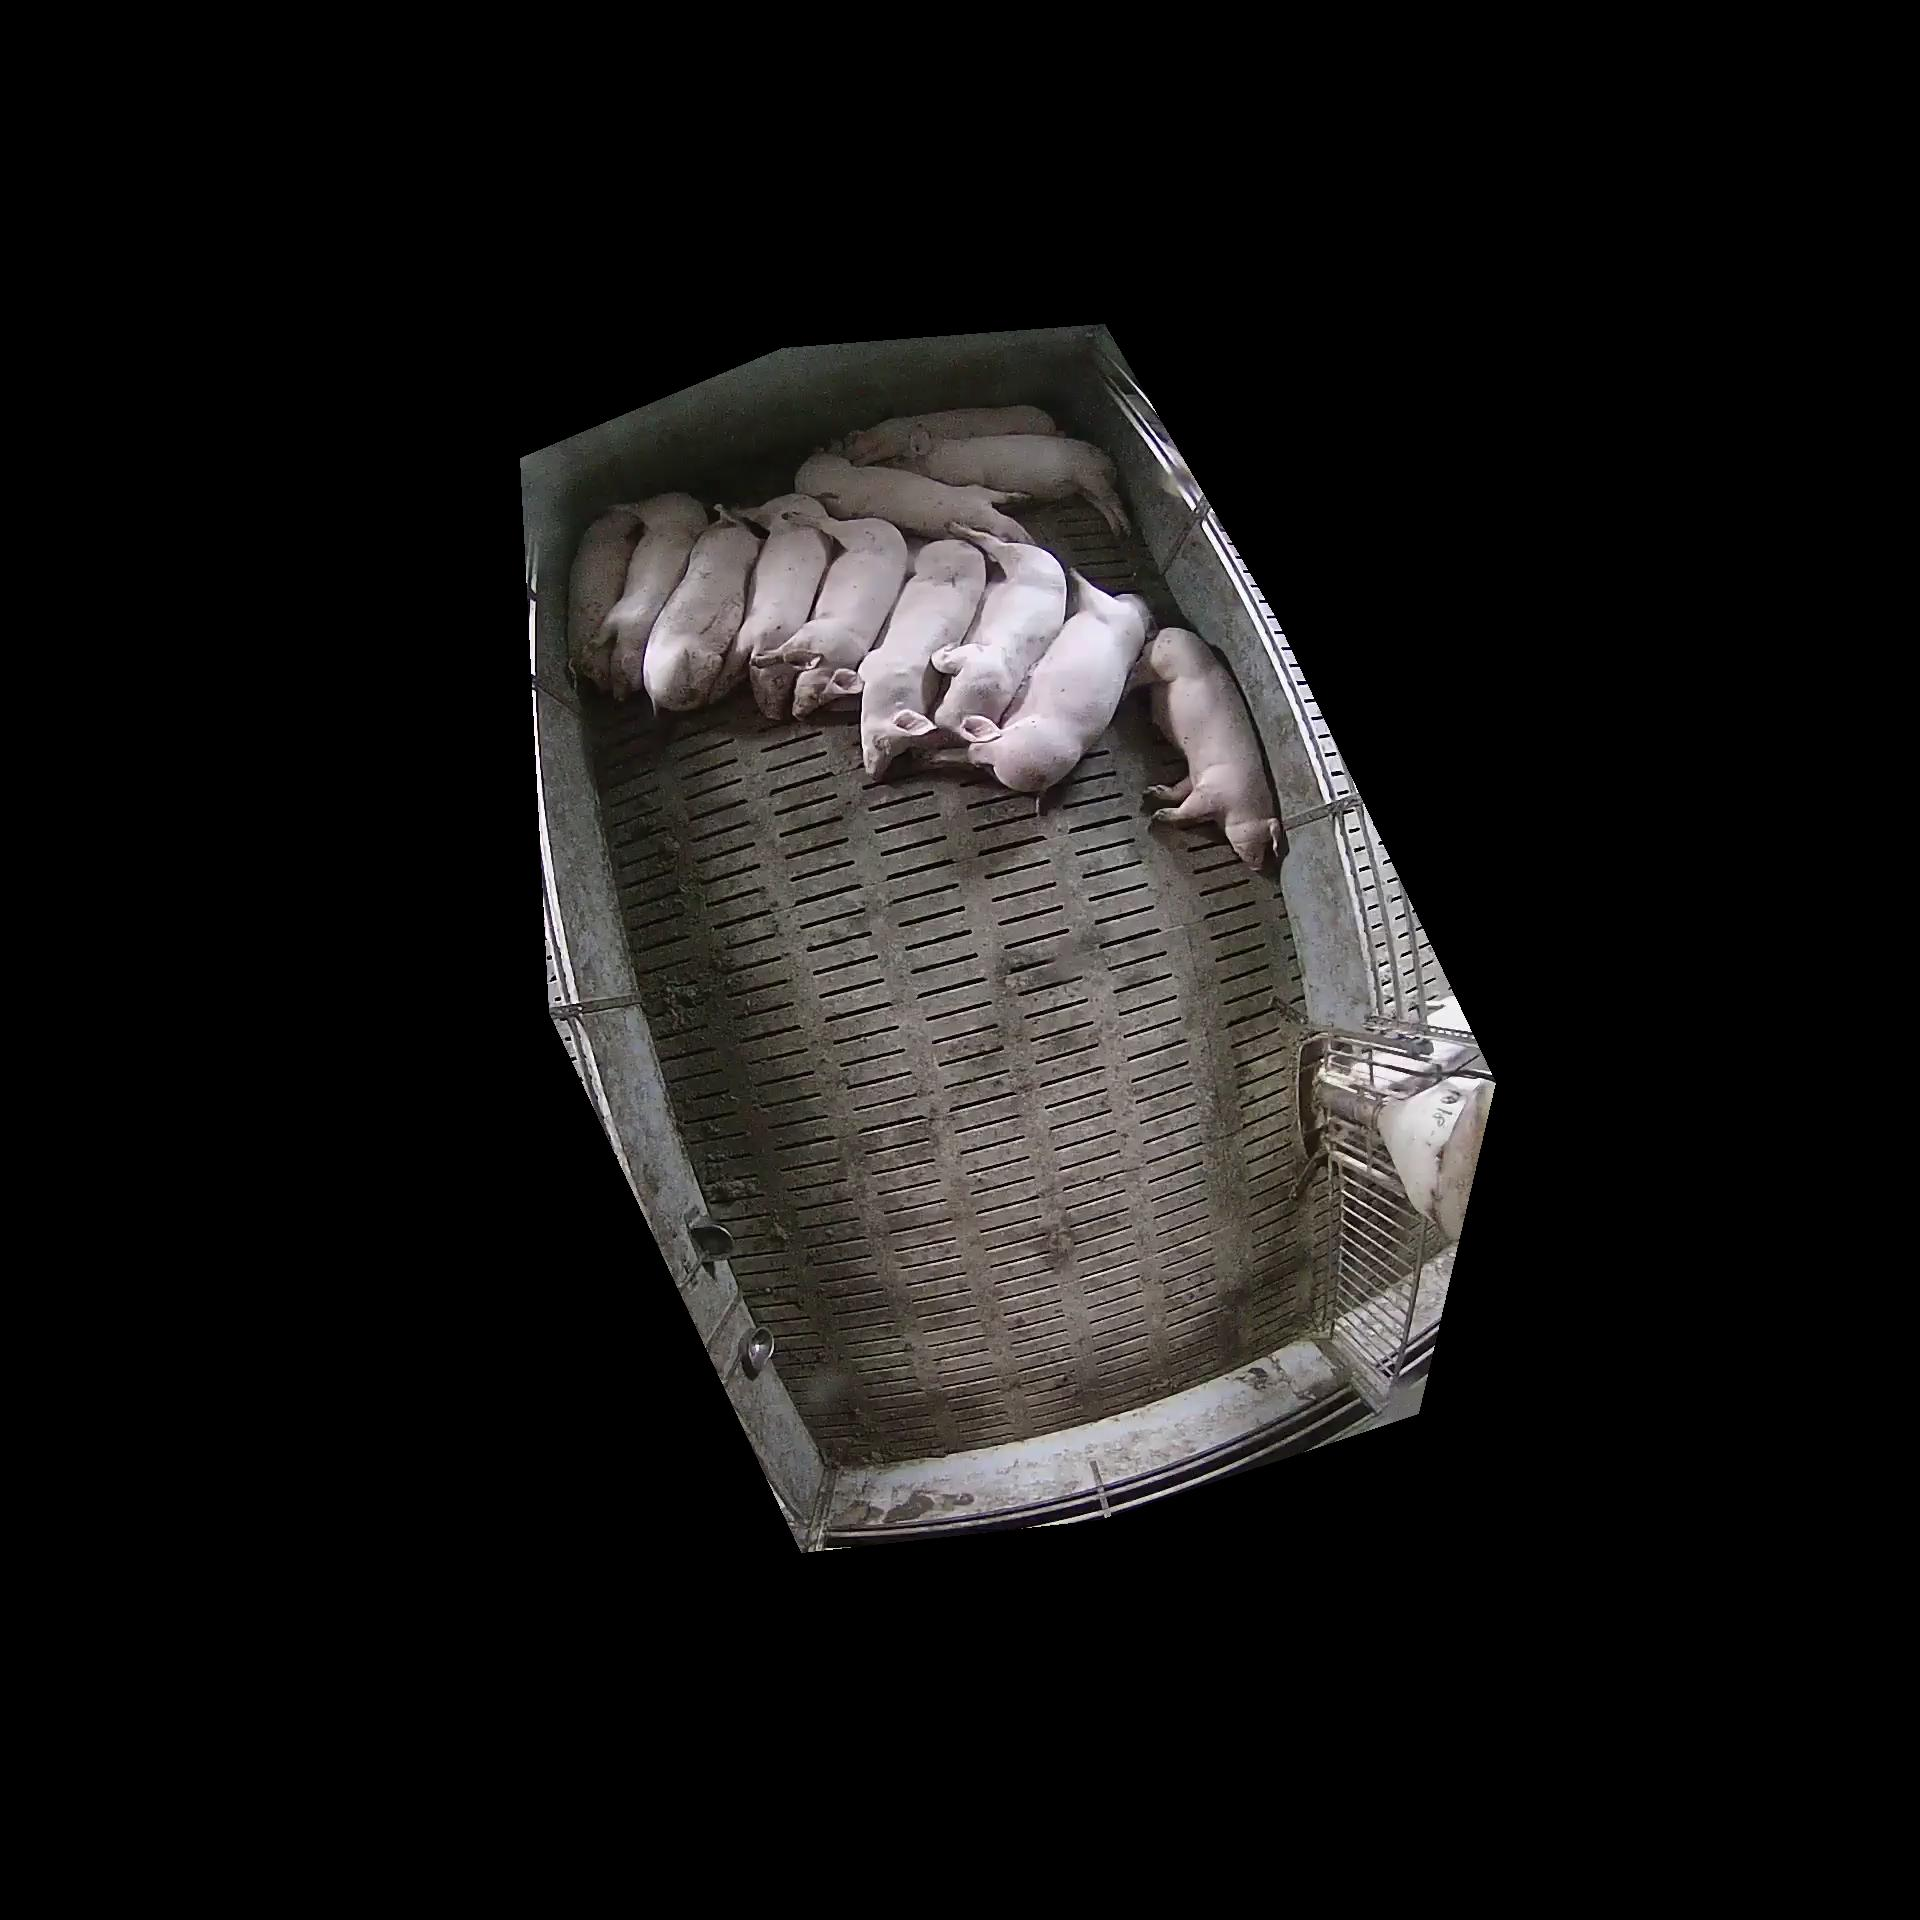pig: (935, 566, 1150, 789), (1125, 624, 1284, 863), (920, 522, 1064, 754), (753, 513, 907, 719), (856, 538, 986, 777), (712, 492, 826, 716), (587, 492, 707, 698), (644, 506, 758, 709), (913, 431, 1125, 533), (796, 454, 1027, 536), (825, 406, 1064, 464), (566, 505, 638, 691)
